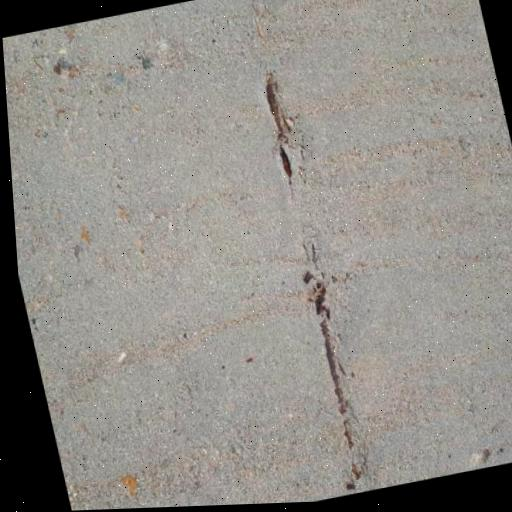exposed_rebar: (314, 281, 353, 448), (265, 74, 284, 131), (279, 145, 291, 178), (314, 283, 325, 314), (352, 463, 360, 478)
